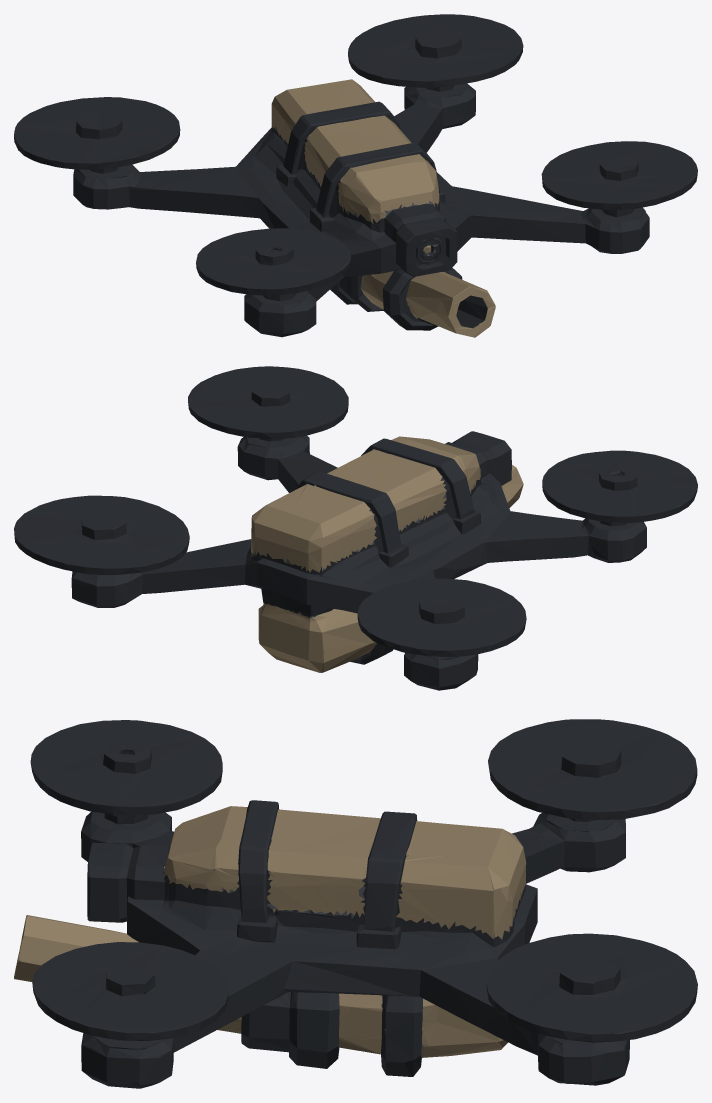
The model's file is dron-fpv.glb.
The picture shows the model from 3 angles, top to bottom: view 1: azimuth 30°, elevation 25°; view 2: azimuth 150°, elevation 25°; view 3: azimuth 270°, elevation 25°; orthographic projection. The views are drawn at different scales.
Parts seen in each view (by area): view 1: hull; view 2: hull; view 3: hull.
Part boxes in pixels (x1,y1,x2,y2): hull: (14,14,697,337); hull: (14,366,697,690); hull: (14,719,697,1088).
Size of the model in its own units: 1.09 by 0.3553 by 0.9992.
